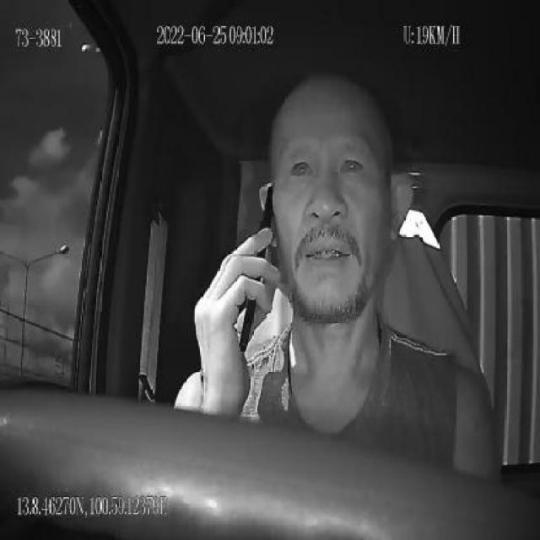phone: (237, 184, 276, 353)
